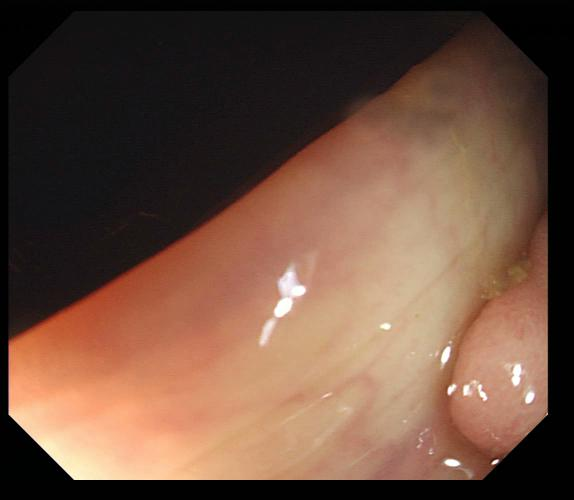polyp: (449, 212, 549, 456)
